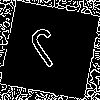J: (25, 25, 72, 78)
